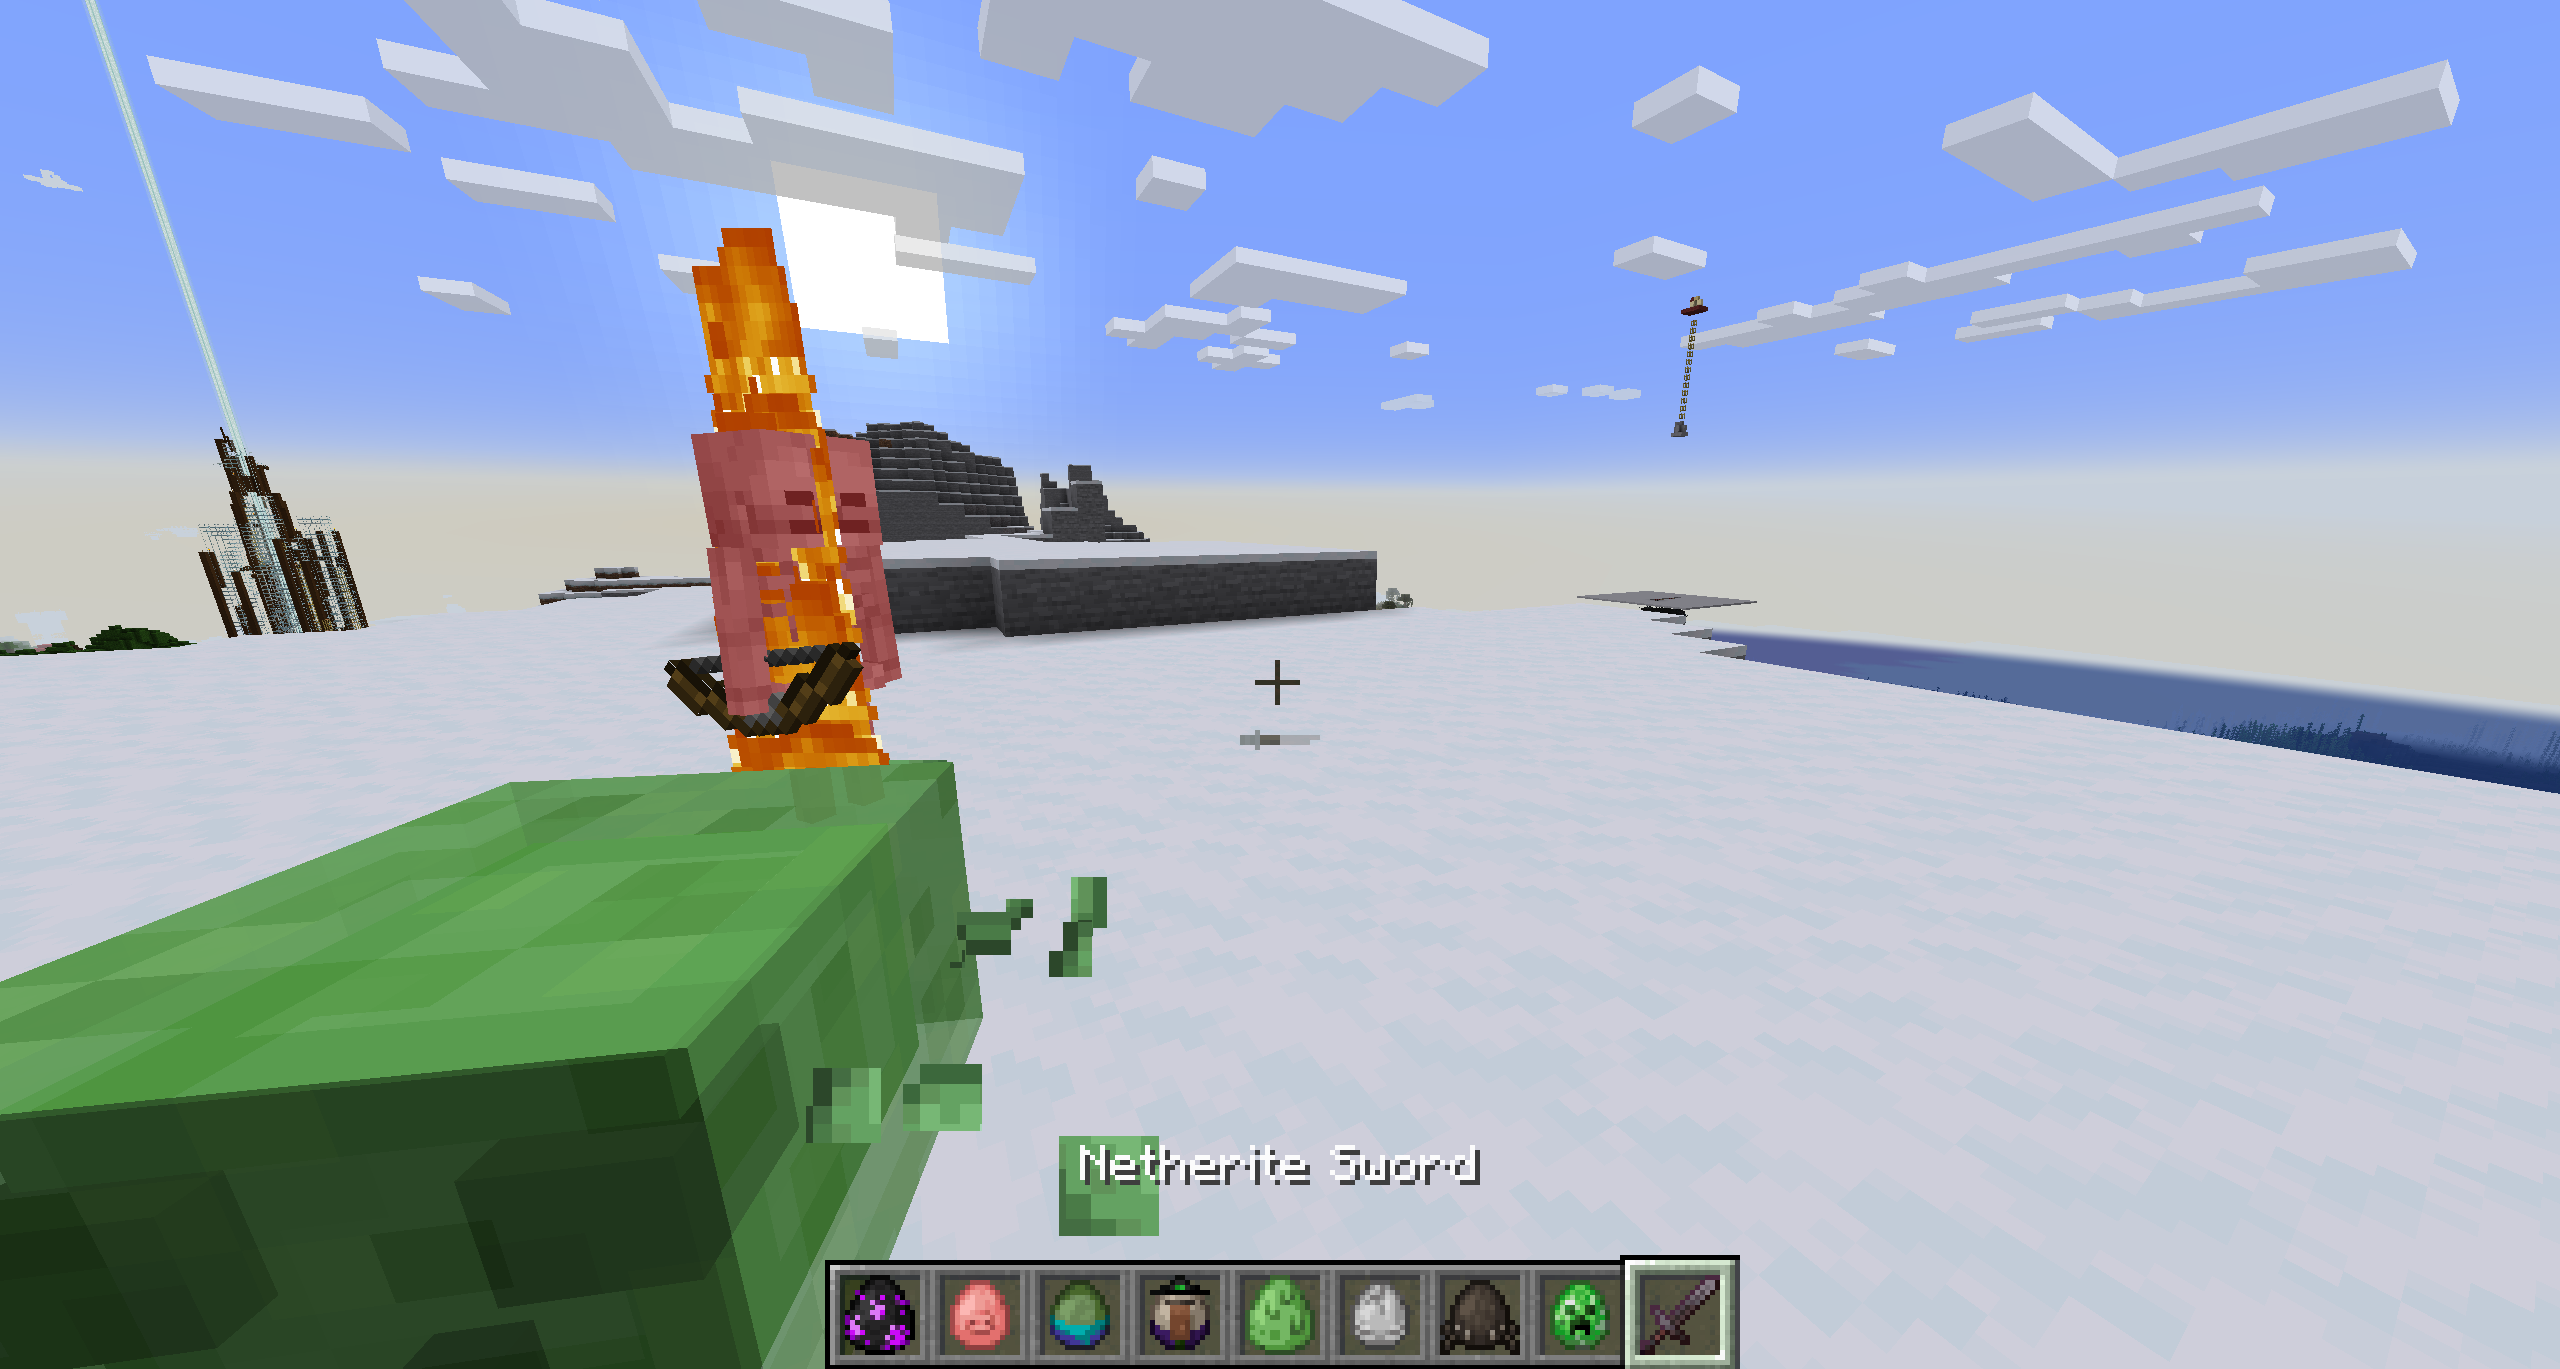slimes: (0, 760, 967, 1364)
squelettes: (687, 432, 902, 819)
